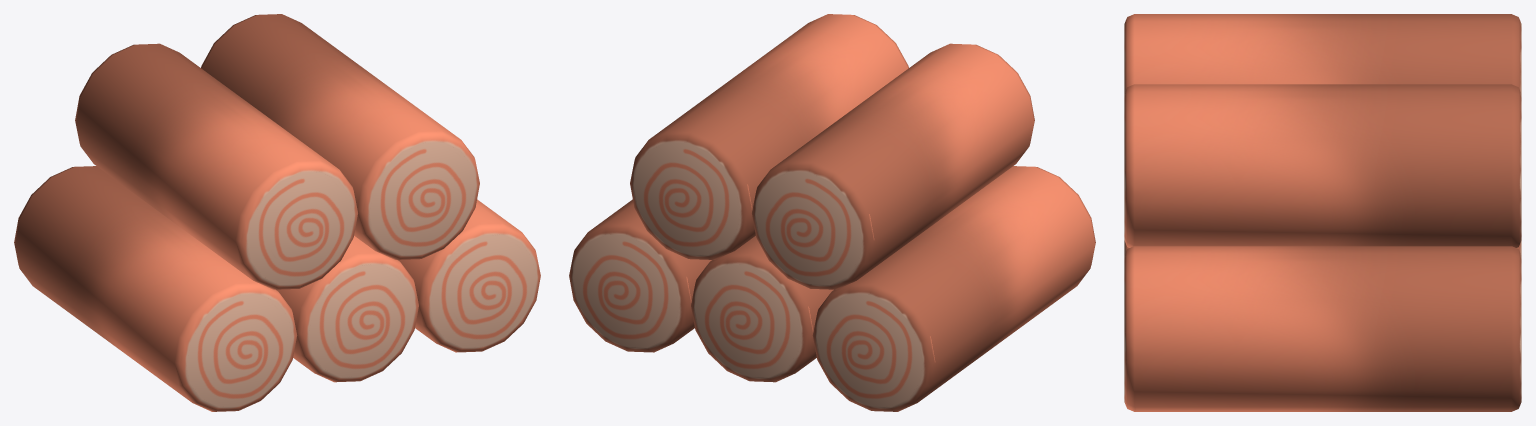
File: woods.fbx
3 renders of one model, left to right at view 1: azimuth 30°, elevation 25°; view 2: azimuth 150°, elevation 25°; view 3: azimuth 270°, elevation 25°, orthographic. The views are drawn at different scales.
Visible parts, largest first — view 1: wood; view 2: wood; view 3: wood.
Part boxes in pixels (x1,y1,x2,y2): wood: [14, 14, 540, 411]; wood: [569, 14, 1095, 411]; wood: [1124, 14, 1521, 411].
Bounding box in the file's own units: 60.97 × 37.43 × 48.64.
